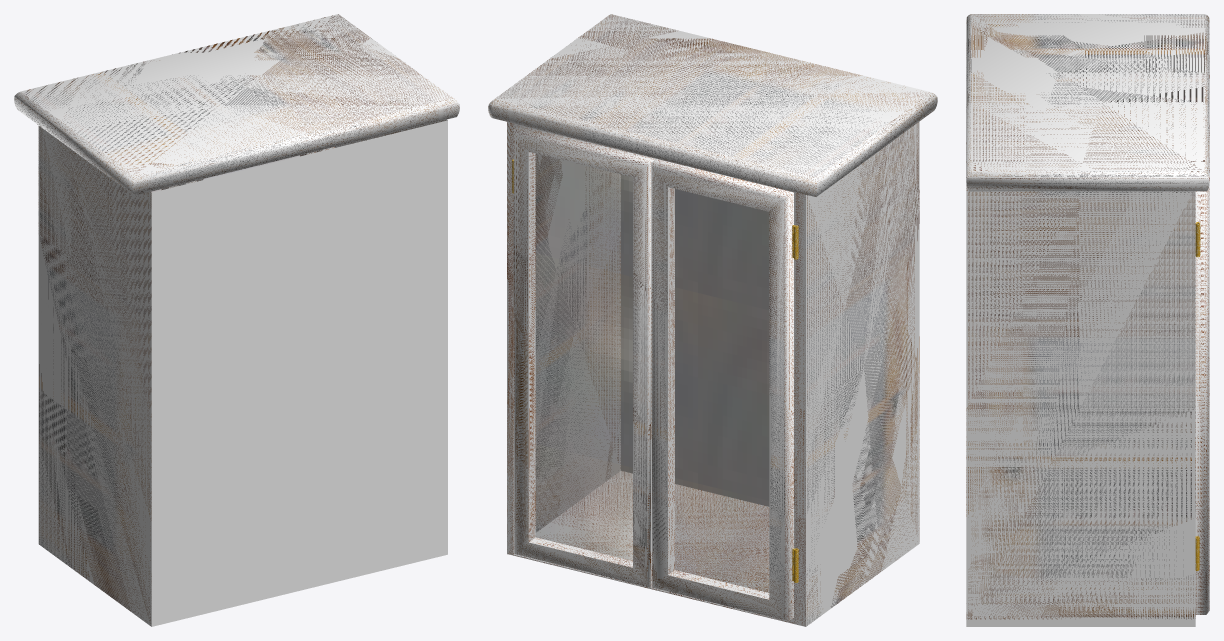
3 renders of one model, left to right at view 1: azimuth 30°, elevation 25°; view 2: azimuth 150°, elevation 25°; view 3: azimuth 270°, elevation 25°, orthographic.
Visible parts, largest first — view 1: mesh15_mesh15-geometry; view 2: mesh15_mesh15-geometry; view 3: mesh15_mesh15-geometry, mesh1_mesh1-geometry.
Part boxes in pixels (x1,y1,x2,y2): mesh15_mesh15-geometry: [14, 14, 459, 626]; mesh15_mesh15-geometry: [488, 14, 937, 626]; mesh15_mesh15-geometry: [966, 14, 1209, 626]; mesh1_mesh1-geometry: [1195, 222, 1200, 570].
Size of the model in its own units: 0.5618 by 0.7459 by 0.3576.
